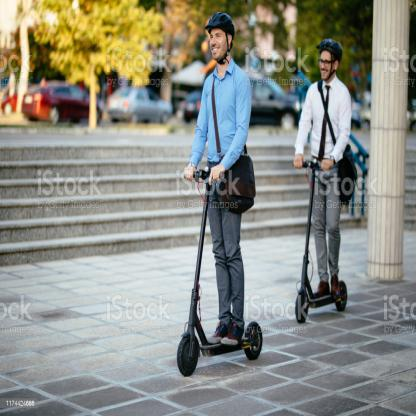scooter: (176, 168, 264, 376), (292, 158, 347, 324)
with helmet: (205, 11, 235, 65), (317, 37, 342, 81)
